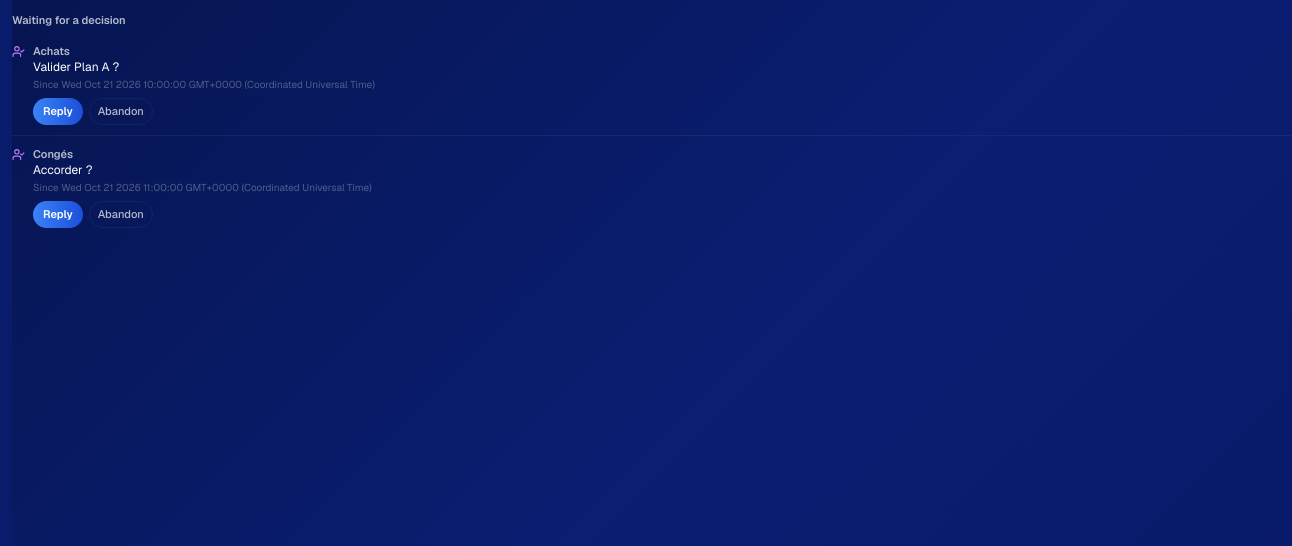
Test: AwaitingDecisionsList › a failed abandon keeps the row and says why
Click the button "Abandon" below "Valider Plan A ?" at (121, 111), box [89,98,153,124]
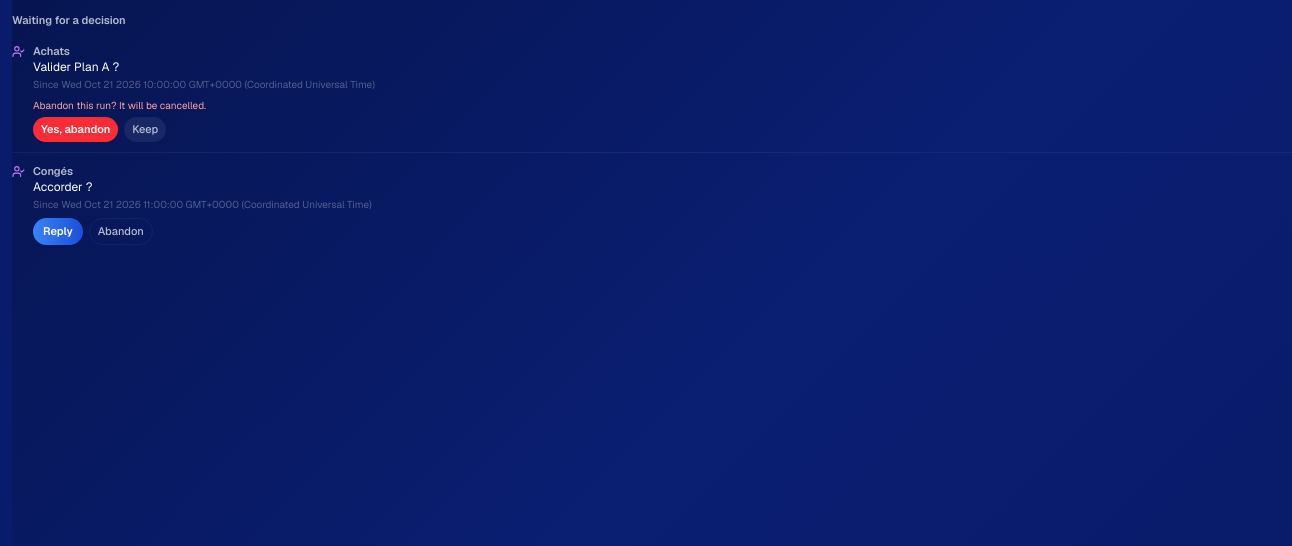
Click the button "Yes, abandon" at (76, 129), box [33,117,118,142]
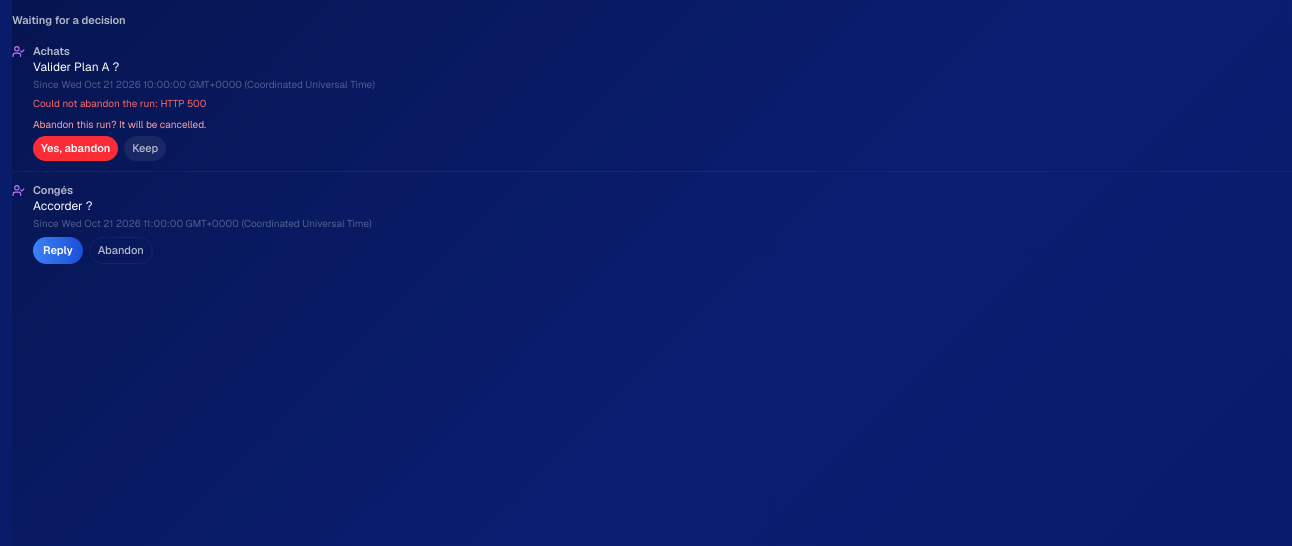
Expected: the text "Valider Plan A ?" is shown, [33,59,119,75]
Now the message shows "HTTP 500", box [33,97,206,110]
